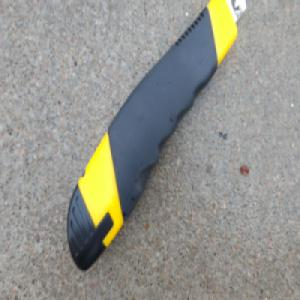Cutter: (69, 1, 242, 267)
